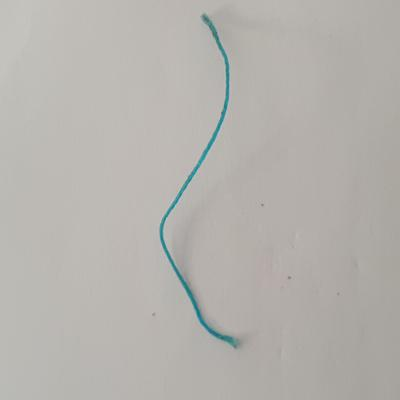thread: (152, 7, 258, 350)
